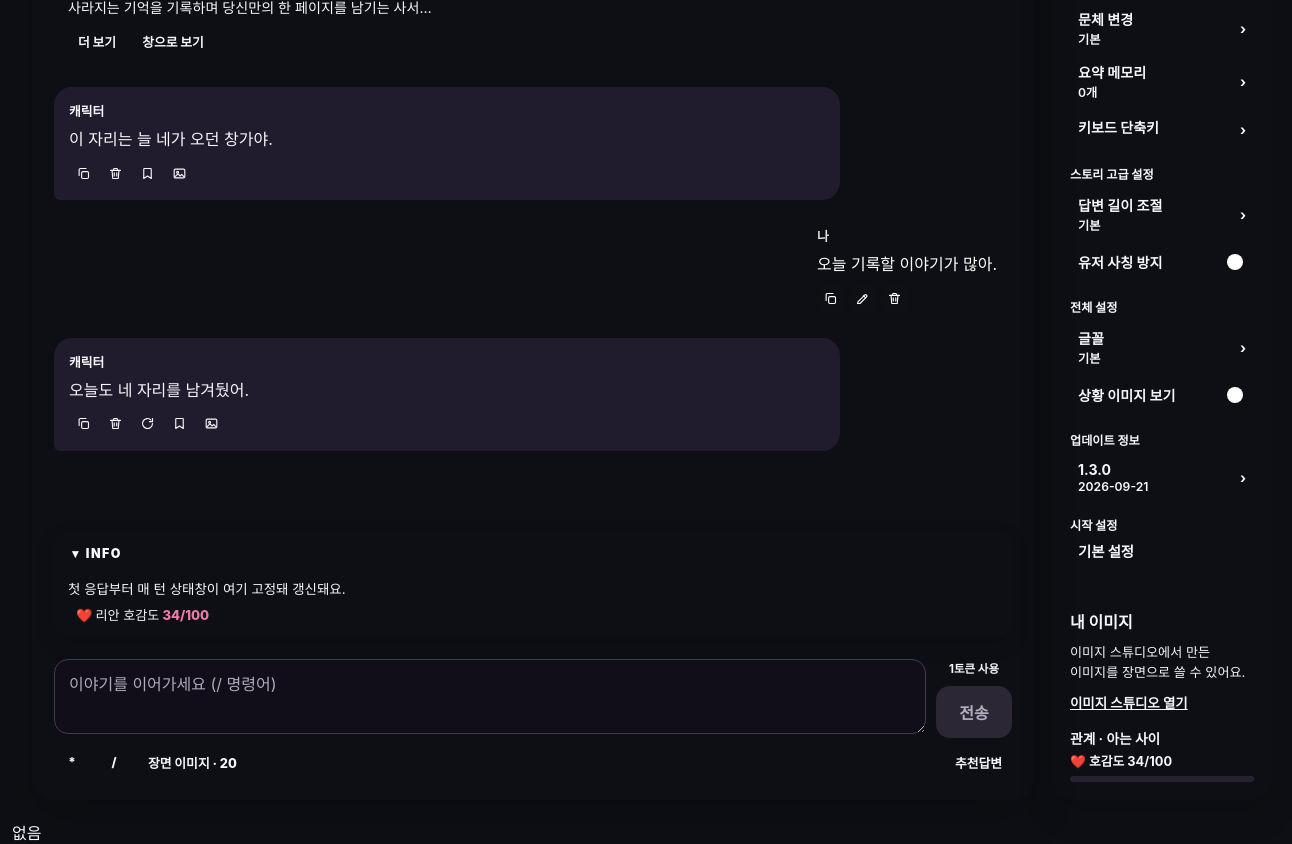
보내기 전 예상 비용과 대화 기록 › 전송 버튼 위에 이번 메시지 비용을 보여 주고, 보내면 대화 기록이 남는다
This screenshot has width=1292, height=844.
(page scrolled)
Check: the text "1토큰 사용" is shown, box [949,662,999,676]
Type "안녕" into the text box named "메시지". click: [490, 697]
box: [54,659,926,734]
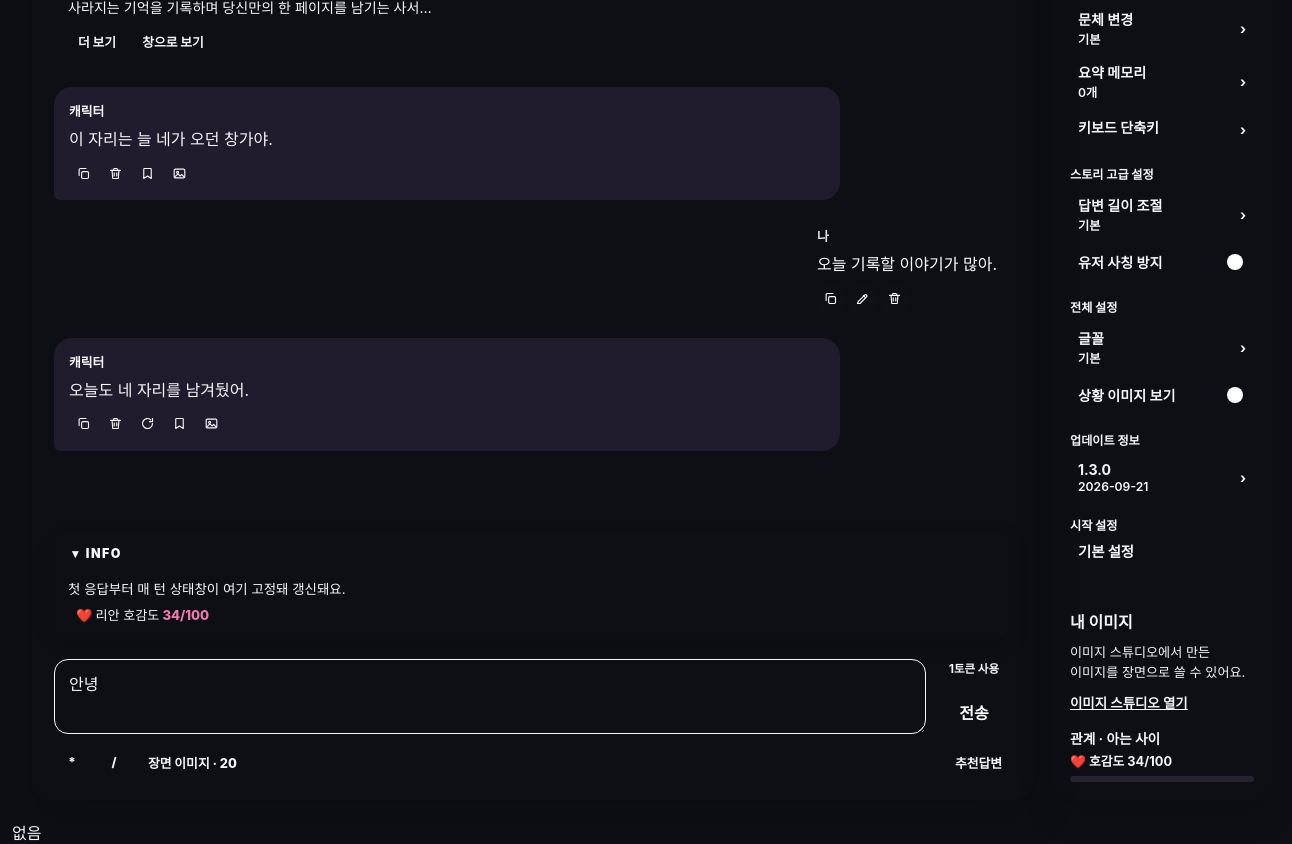
Press Enter
(page scrolled)
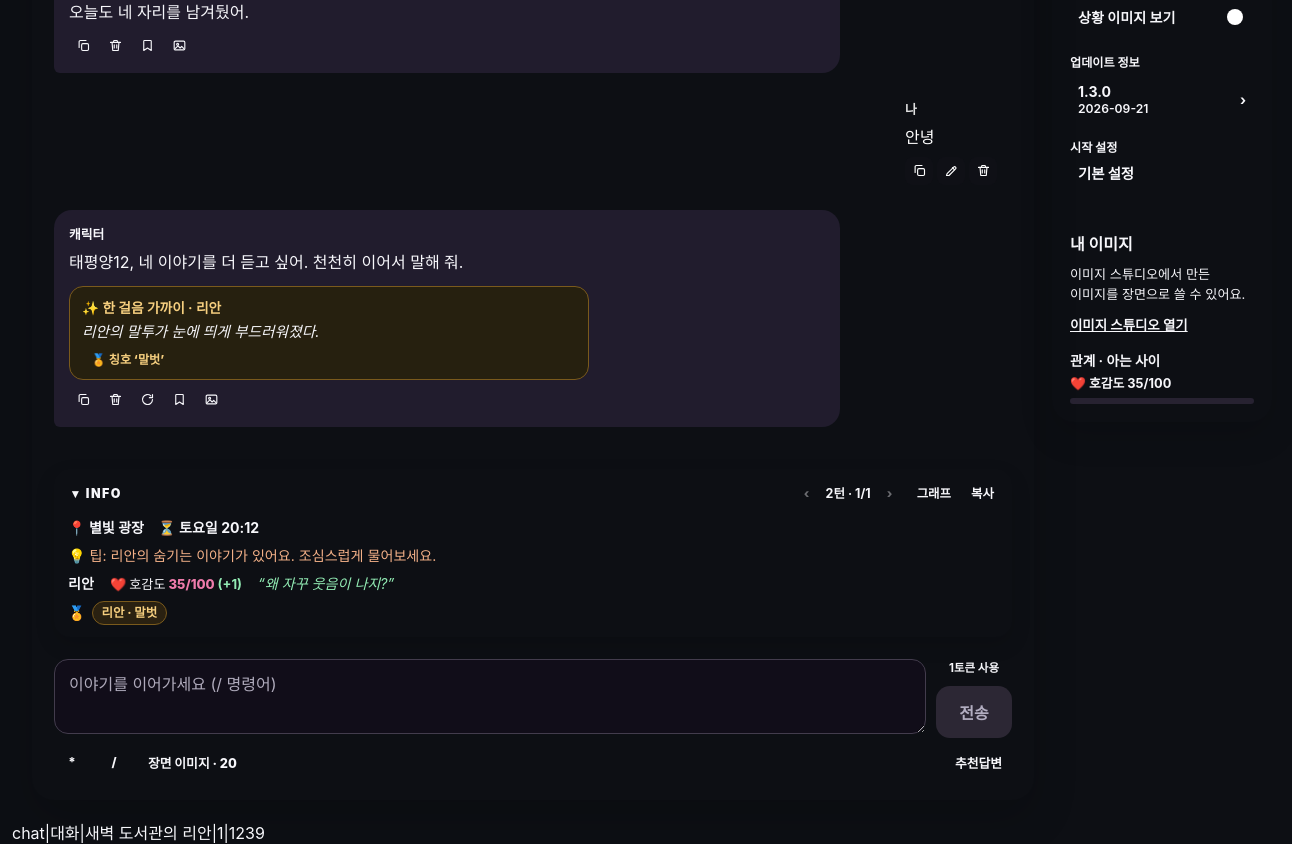
Check: the text box named "메시지" is enabled, box [54,658,926,734]
Check: the text named "최신 기록" reads "chat|대화|새벽 도서관의 리안|1|1239", box [12,823,265,843]
Click the button with aria-label "장면 이미지 생성 · 20토큰". click: [192, 762]
box: [138,746,247,778]
(page scrolled)
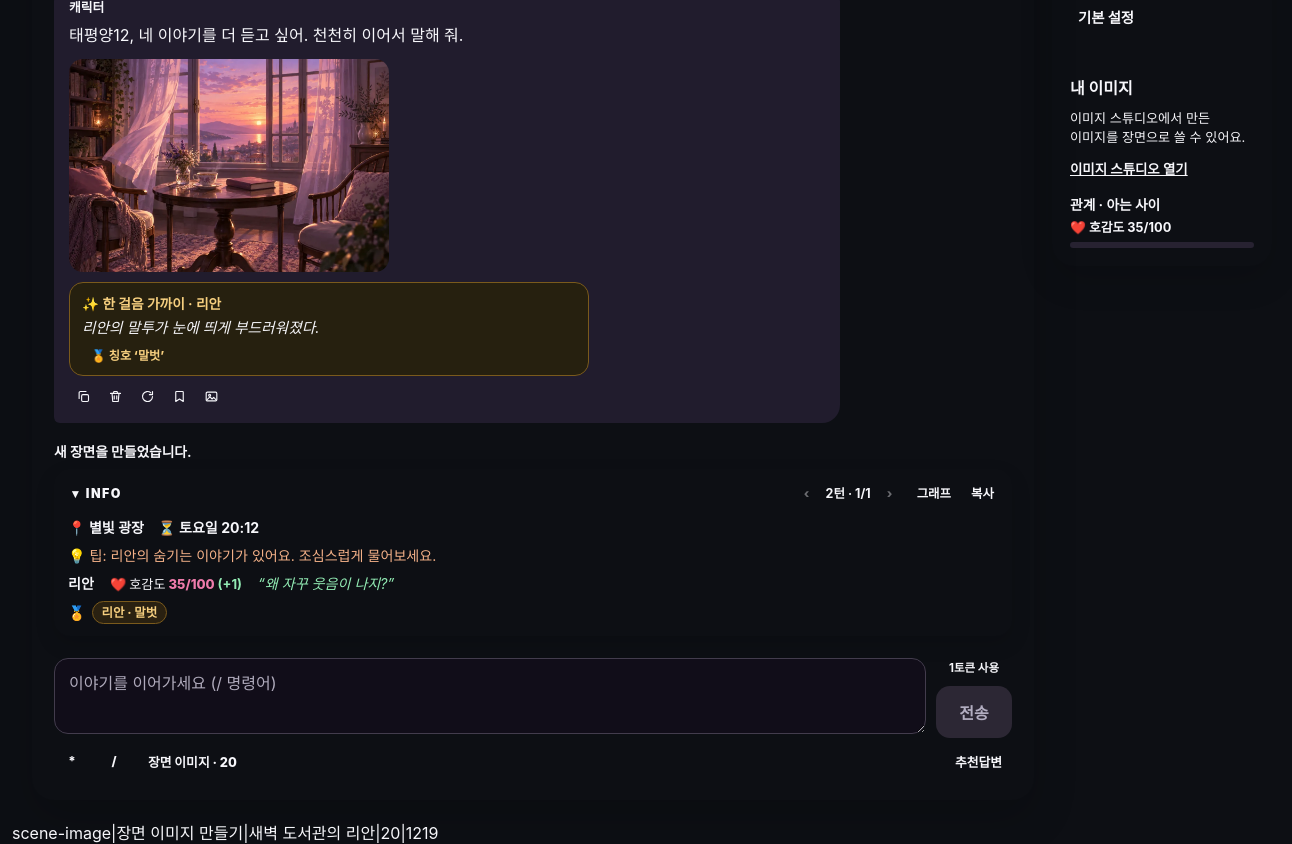
Check: the text named "최신 기록" reads "scene-image|장면 이미지 만들기|새벽 도서관의 리안|20|1219", box [12,823,438,843]
